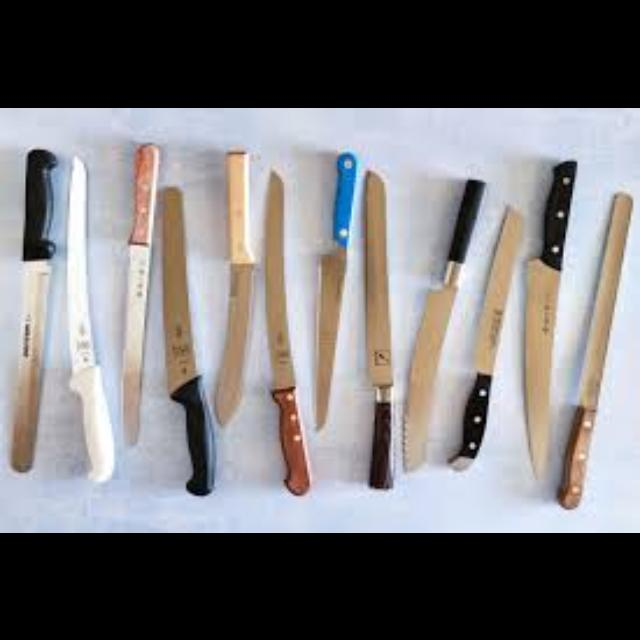Knife: (400, 178, 486, 472), (557, 189, 633, 507), (445, 202, 521, 470), (522, 159, 576, 477), (160, 184, 213, 496), (66, 154, 114, 482), (263, 165, 309, 493), (10, 147, 56, 470), (312, 150, 356, 430), (212, 147, 254, 426), (122, 142, 158, 444), (363, 167, 393, 488)
